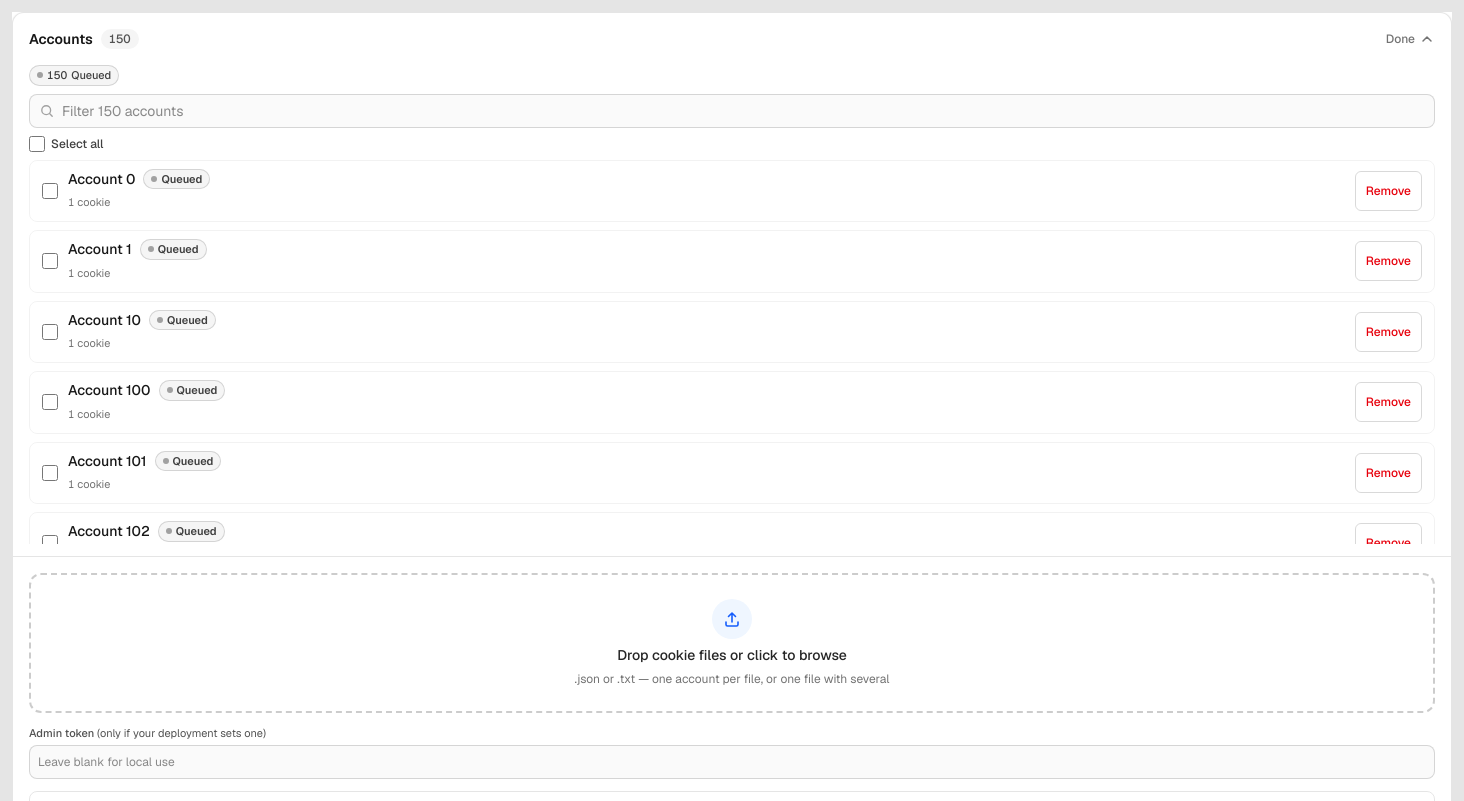
Test: AccountsPanel bulk actions › counts every id of a failed chunk as not removed and shows the backend's message
Click the checkbox named "Select all accounts".
click(37, 144)  # box [29,136,45,152]
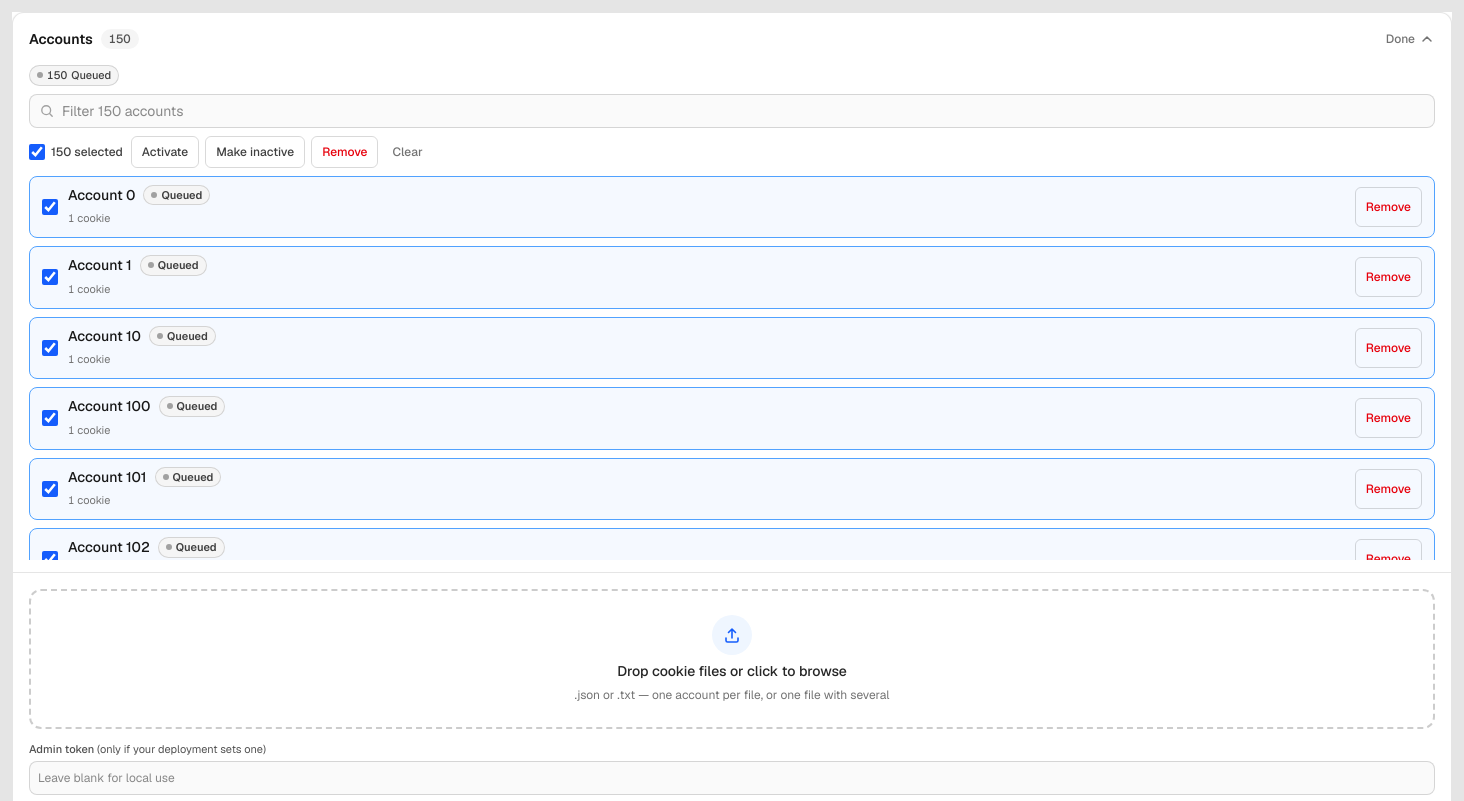
Click the button "Remove" in the row of "150 selected".
click(345, 152)  # box [311,136,378,168]
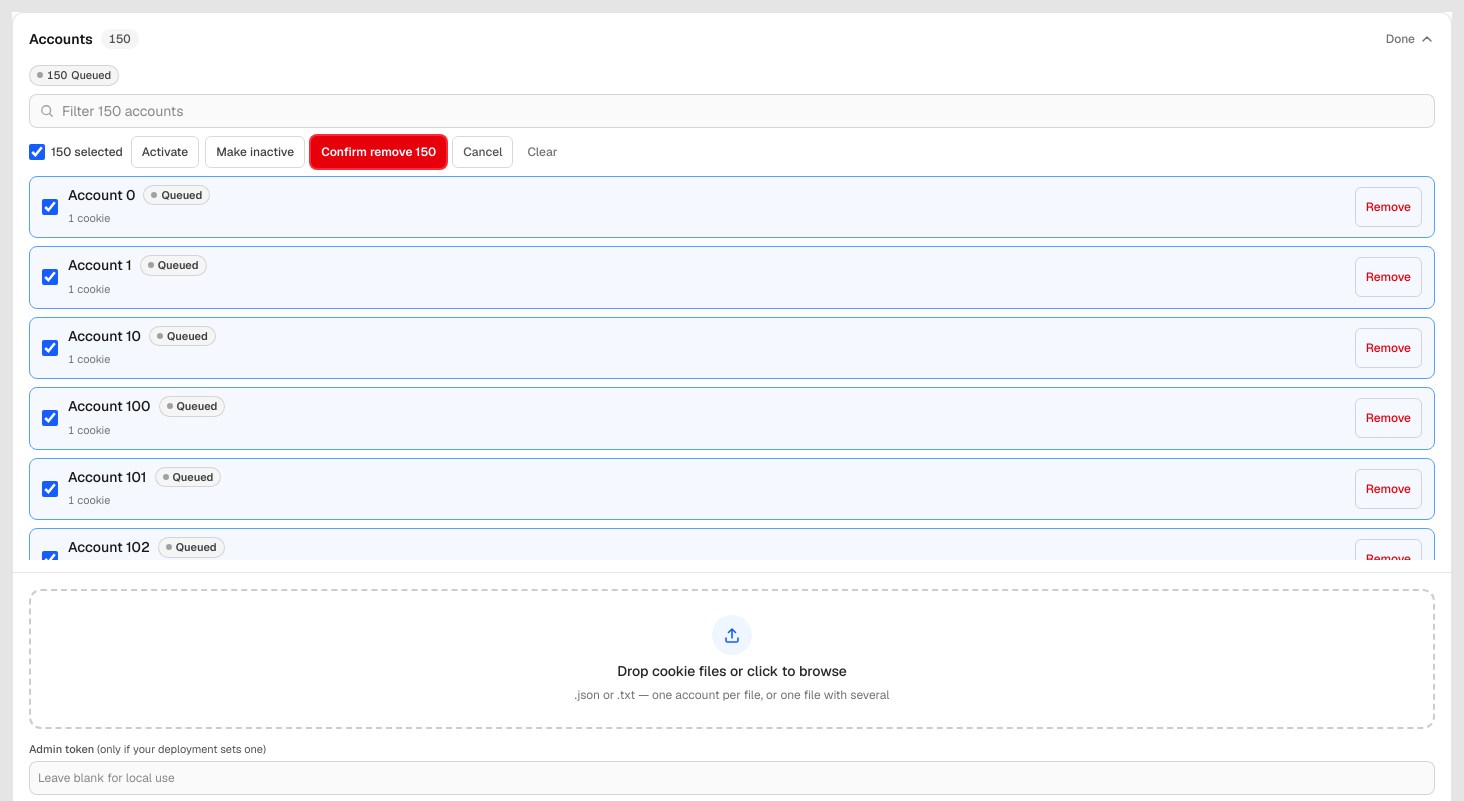
Click the button "Confirm remove 150".
click(379, 152)  # box [311,136,446,168]
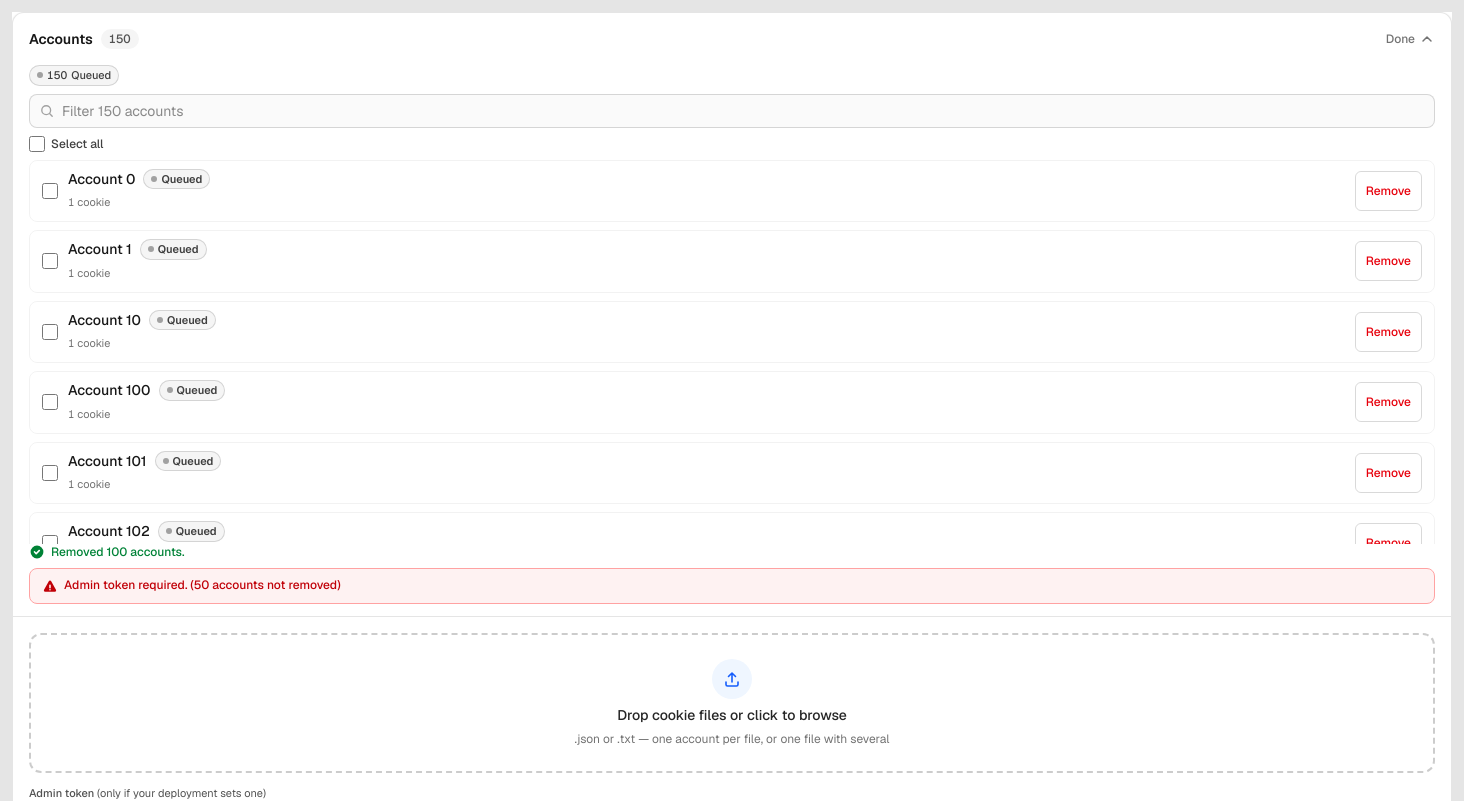
Result: the message reads "Admin token required. (50 accounts not removed)" at [64,576,341,592]
